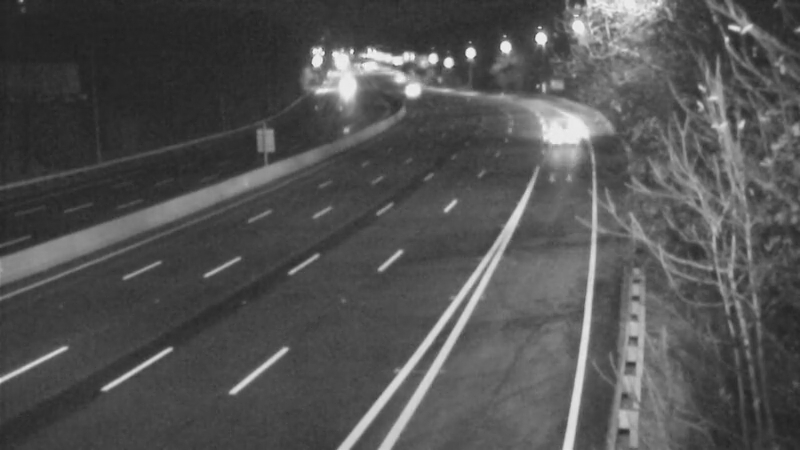vehicle: (377, 54, 427, 104), (387, 64, 437, 114), (534, 102, 584, 152), (321, 61, 371, 111)
